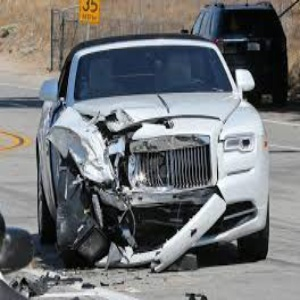bonnet: (75, 92, 216, 136)
bumper: (65, 183, 249, 263)
